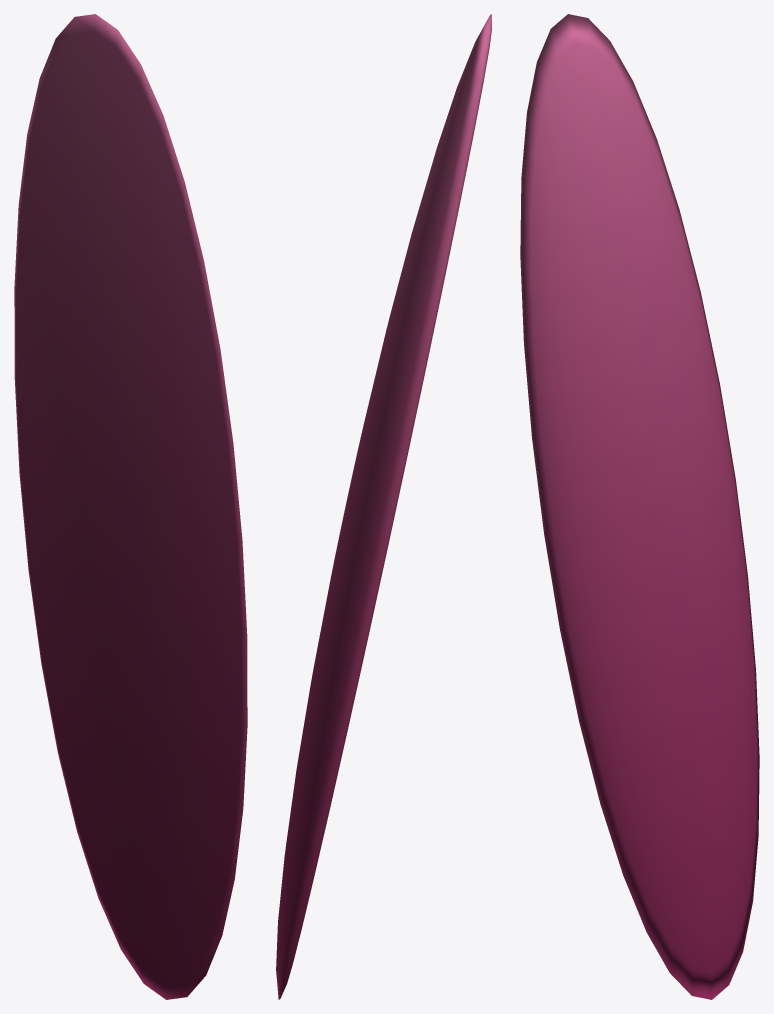
Rendered from Brin d'herbe.fbx.
3 renders of one model, left to right at view 1: azimuth 30°, elevation 25°; view 2: azimuth 150°, elevation 25°; view 3: azimuth 270°, elevation 25°, orthographic. The views are drawn at different scales.
Parts seen in each view (by area): view 1: Sphere.670; view 2: Sphere.670; view 3: Sphere.670.
Boxes of the visible parts, box(x1,y1,x2,y2) form: Sphere.670: box(14, 14, 247, 999); Sphere.670: box(276, 14, 491, 999); Sphere.670: box(520, 14, 759, 999).
Size of the model in its own units: 4.77 by 25.75 by 6.06.
